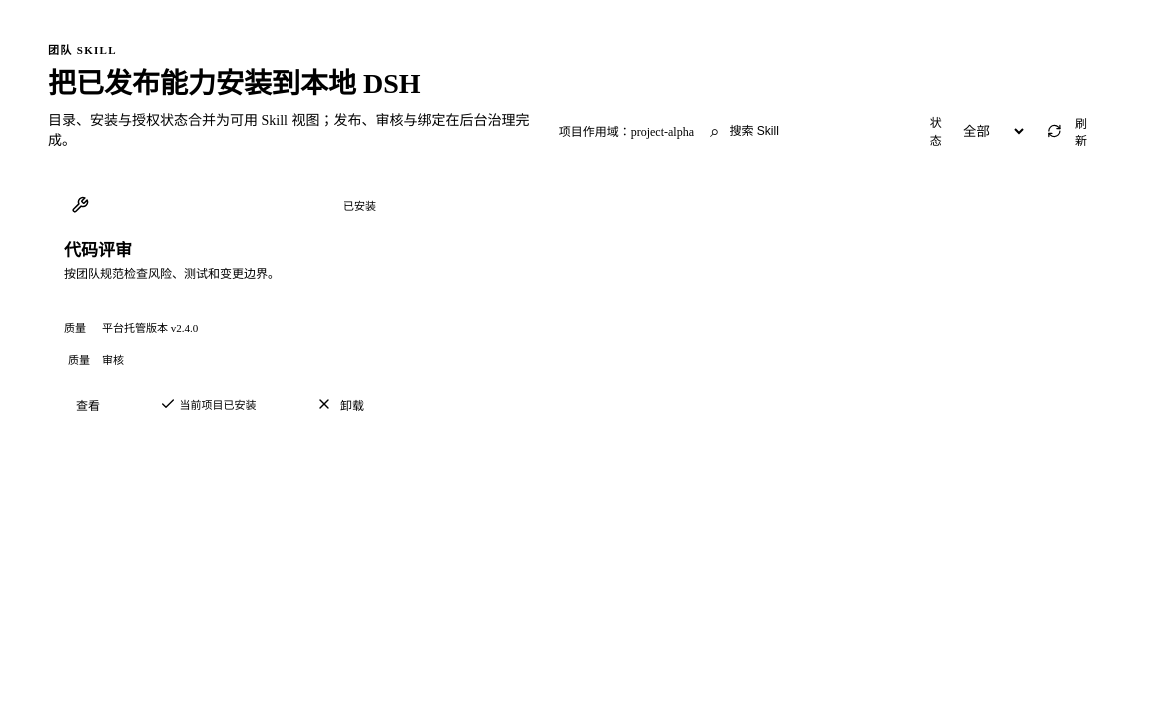
UX-03 二次核对 › prefers the project-scope installation when both project and global copies exist
Check: the heading "代码评审" is shown, box x1=64 y1=241 x2=132 y2=260
Check: the text "当前项目已安装" is shown, box x1=160 y1=396 x2=256 y2=412
卸载的是行内展示的那一份（项目作用域）
Click the button "卸载" at (340, 404), box x1=304 y1=387 x2=376 y2=421
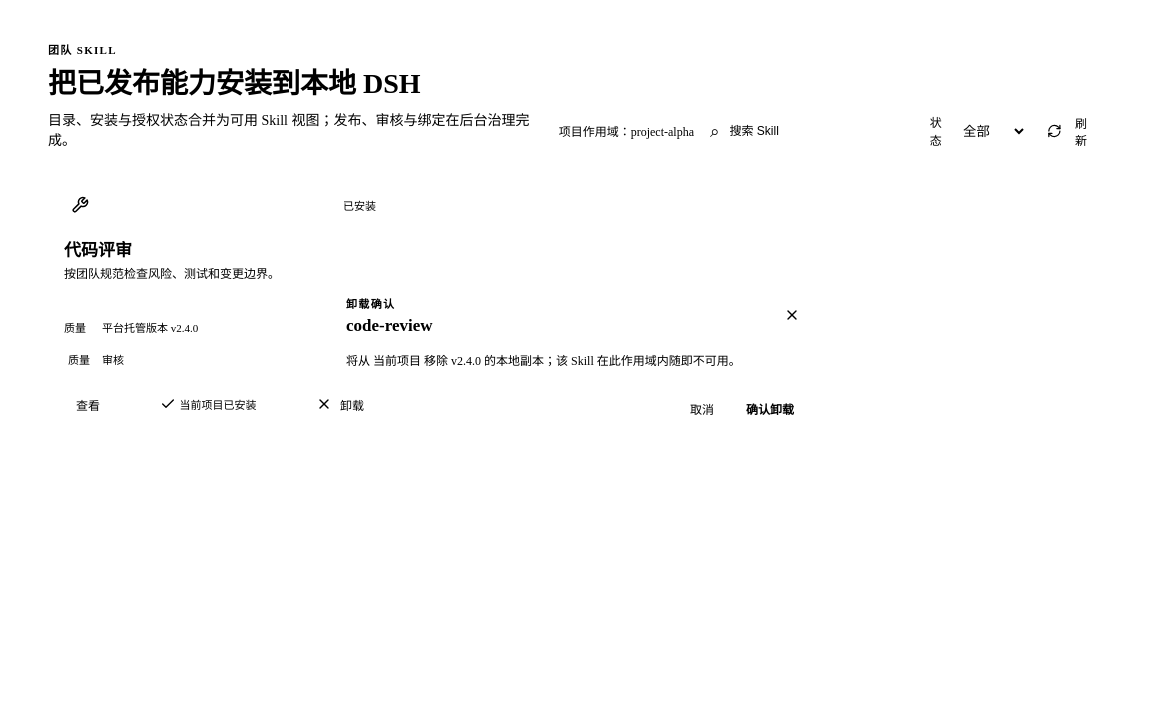
Check: the dialog "卸载" is shown, box x1=326 y1=274 x2=826 y2=446
